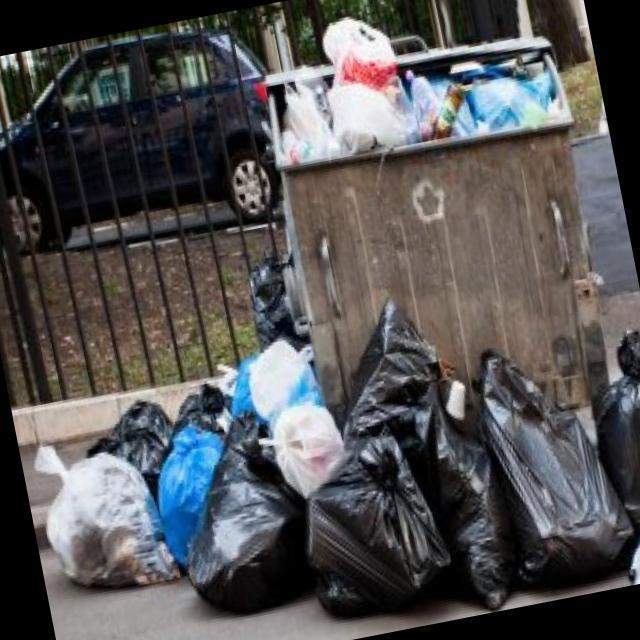garbage: (119, 264, 640, 640), (262, 24, 572, 190), (12, 386, 184, 624), (238, 247, 312, 351), (314, 1, 398, 72)
